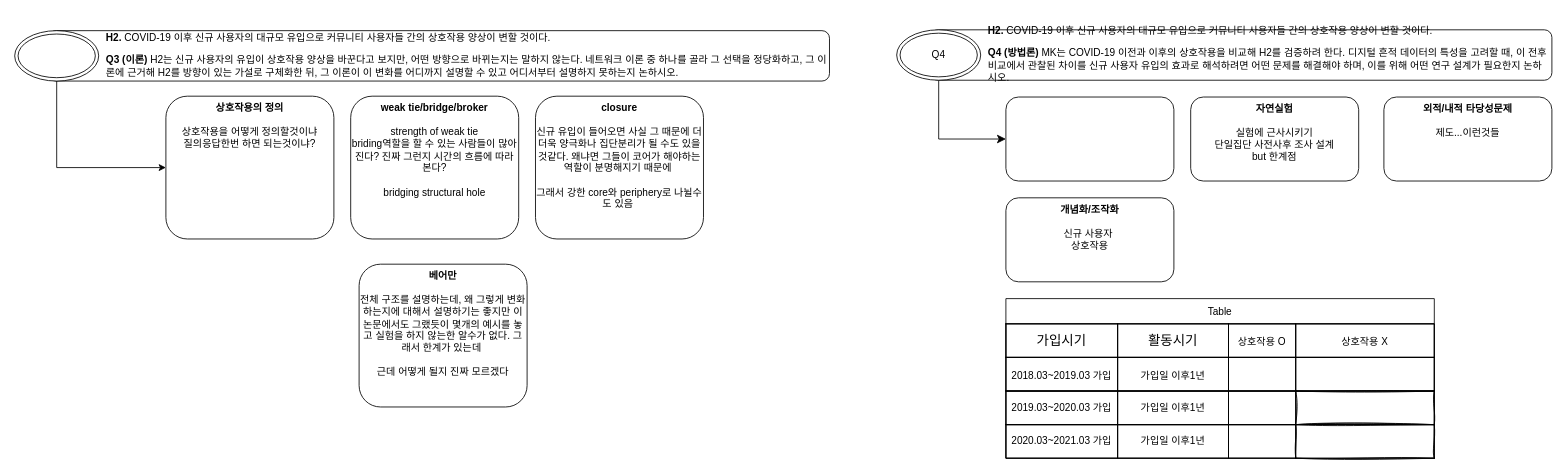
This 1567x473 diagram has some shape labels left out. Here are the shapes that lost their labels. From the top down, the centre of each, then its label:
At pixel 56 55: "Q3".
At pixel 1089 138: "디지털흔적 레디메이드데이터 비대표성 변동성".
